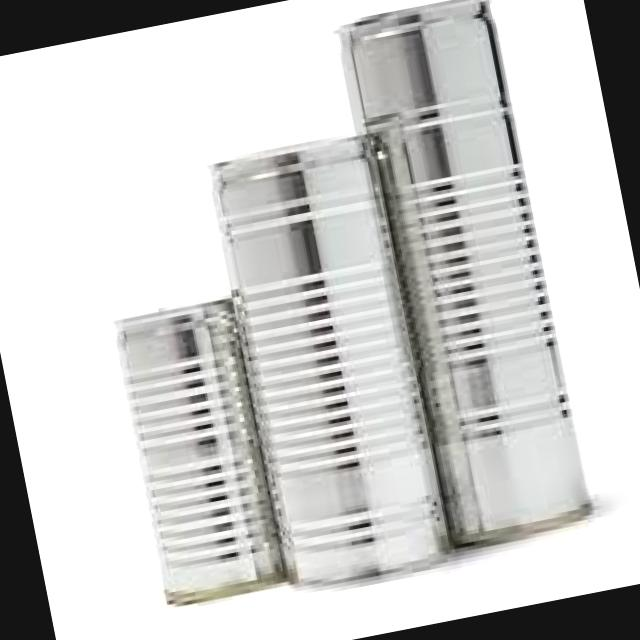kim_loai: (207, 0, 594, 585), (112, 301, 283, 610)
